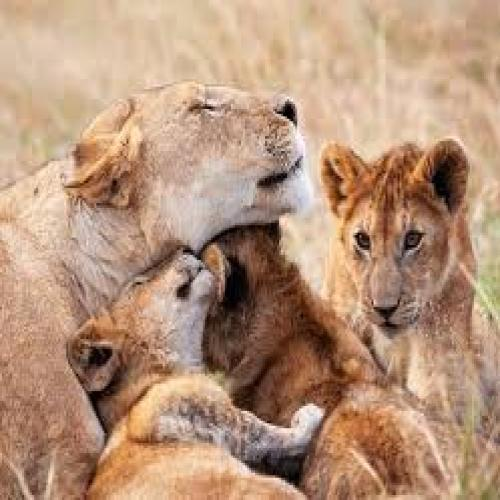lion-endangered: (0, 77, 309, 500), (194, 219, 496, 500), (85, 245, 315, 500), (312, 139, 497, 401)
